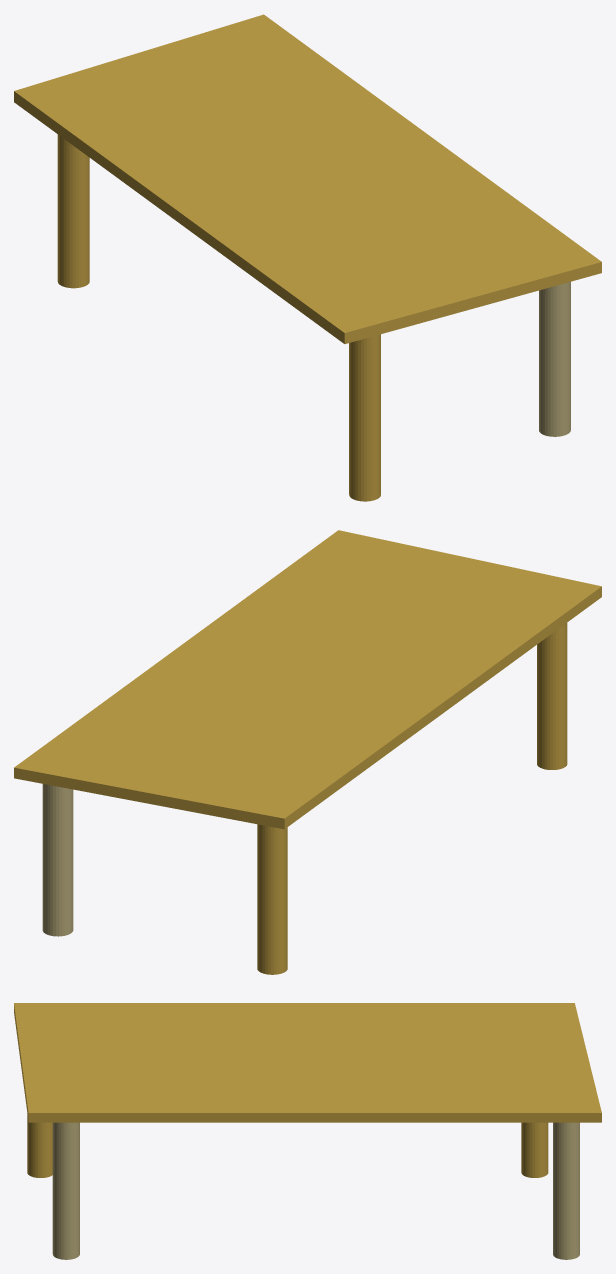
Rendered from mesacuadrada.dae.
3 renders of one model, top to bottom at view 1: azimuth 30°, elevation 25°; view 2: azimuth 150°, elevation 25°; view 3: azimuth 270°, elevation 25°, orthographic. The views are drawn at different scales.
Parts seen in each view (by area): view 1: Cylinder, Cylinder.002, Cylinder.001; view 2: Cylinder, Cylinder.001, Cylinder.002; view 3: Cylinder, Cylinder.001, Cylinder.002.
Boxes of the visible parts, box(x1,y1,x2,y2) form: Cylinder: box(14, 14, 601, 436); Cylinder.002: box(349, 334, 380, 501); Cylinder.001: box(57, 134, 89, 288); Cylinder: box(14, 530, 601, 936); Cylinder.001: box(257, 824, 287, 974); Cylinder.002: box(537, 623, 567, 769); Cylinder: box(14, 1003, 601, 1259); Cylinder.001: box(521, 1122, 548, 1177); Cylinder.002: box(27, 1114, 52, 1177).
Bounding box in the file's own units: 0.4865 × 1.1 × 0.3183.
